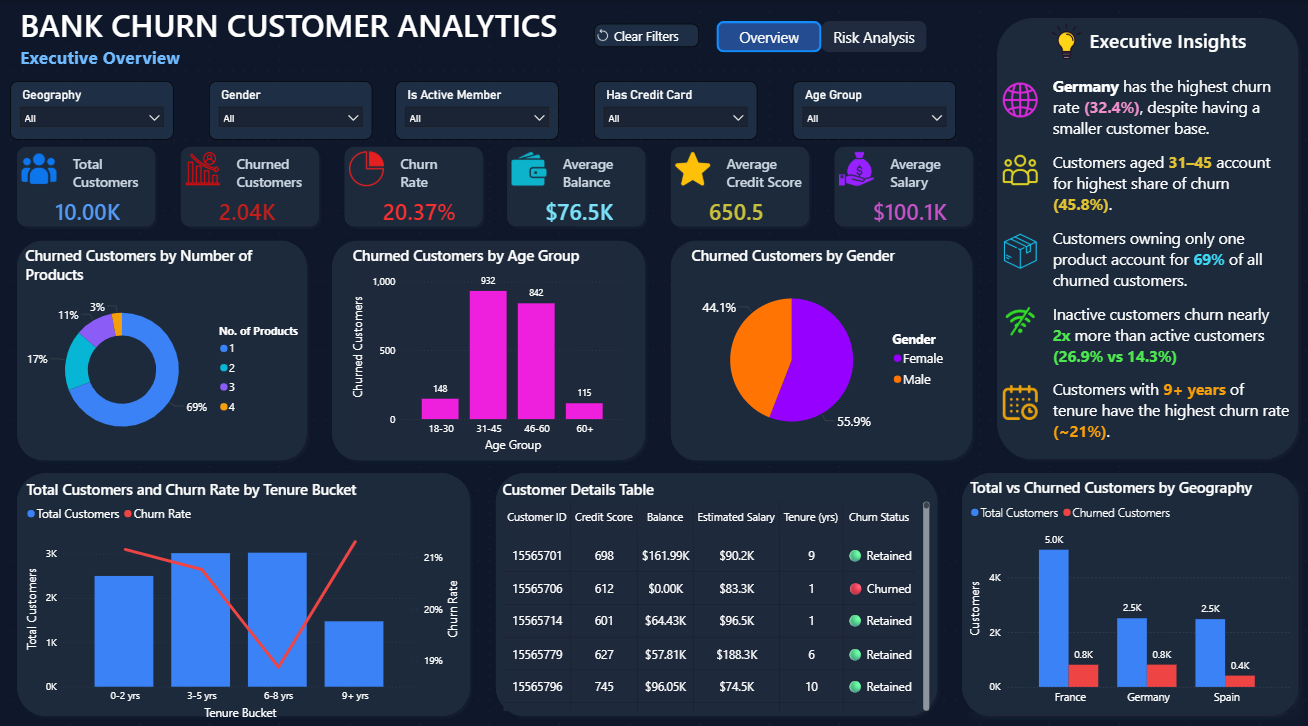

The dashboard page shown, as its layout file describes it:
{"tool":"powerbi","page":{"name":"Executive Overview","canvas":[1800,1000],"ordinal":0},"visuals":[{"type":"textbox","box":[16,0,784,112],"z":0},{"type":"group","id":"g1","title":"Group 7","box":[1360,16,432,624],"z":0,"group":"g14"},{"type":"actionButton","box":[1040,16,144,48],"z":1000},{"type":"textbox","box":[1408,32,352,48],"z":1000,"group":"g14"},{"type":"actionButton","box":[1184,16,144,48],"z":2000},{"type":"textbox","box":[1390.3,80,46.3,544],"z":2000,"group":"g14"},{"type":"image","box":[1424,32,48,48],"z":3000,"group":"g14"},{"type":"slicer","fields":{"Values":["Bank_Churn.Age Group"]},"box":[1088,96,224,80],"z":3000},{"type":"slicer","fields":{"Values":["Bank_Churn.Gender"]},"box":[284,96,224,80],"z":4000},{"type":"image","box":[1390.3,112,46.3,48],"z":4000,"group":"g14"},{"type":"slicer","fields":{"Values":["Bank_Churn.HasCrCard"]},"box":[820,96,224,80],"z":5000},{"type":"image","box":[1390.3,208,46.3,48],"z":5000,"group":"g14"},{"type":"slicer","fields":{"Values":["Bank_Churn.IsActiveMember"]},"box":[552,96,224,80],"z":6000},{"type":"image","box":[1390.3,320,46.3,48],"z":6000,"group":"g14"},{"type":"shape","box":[1360,16,432,624],"z":7000,"group":"g1"},{"type":"shape","box":[16,320,448,320],"z":7000,"group":"g11"},{"type":"shape","box":[928,320,416,320],"z":7000,"group":"g7"},{"type":"shape","box":[16,640,608,352],"z":7000},{"type":"shape","box":[640,640,640,352],"z":7000,"group":"g15"},{"type":"shape","box":[1296,640,496,352],"z":7000,"group":"g9"},{"type":"group","id":"g2","title":"Group 2","box":[240,192,224,160],"z":8000},{"type":"shape","box":[240,192,208,128],"z":8000,"group":"g2"},{"type":"shape","box":[464,192,208,128],"z":8000,"group":"g3"},{"type":"shape","box":[464,320,464,320],"z":8000,"group":"g8"},{"type":"clusteredColumnChart","title":"Total vs Churned Customers by Geography","fields":{"Category":["Bank_Churn.Geography"],"Y":["Bank_Churn.Total Customers","Bank_Churn.Churned Customers"]},"box":[1328,656.8,432,301.7],"z":8000,"group":"g9"},{"type":"shape","box":[16,192,208,128],"z":9000,"group":"g13"},{"type":"group","id":"g3","title":"Group 3","box":[464,192,208,160],"z":9000},{"type":"shape","box":[688,192,208,128],"z":9000,"group":"g4"},{"type":"image","box":[256,208,48,48],"z":9000,"group":"g2"},{"type":"group","id":"g4","title":"Group 4","box":[688,192,208,160],"z":10000},{"type":"shape","box":[912,192,208,128],"z":10000,"group":"g5"},{"type":"group","id":"g5","title":"Group 5","box":[912,192,208,160],"z":11000},{"type":"shape","box":[1136,192,208,128],"z":11000,"group":"g6"},{"type":"cardVisual","fields":{"Data":["Bank_Churn.Total Customers"]},"box":[48,224,176,128],"z":11000,"group":"g13"},{"type":"group","id":"g6","title":"Group 6","box":[1136,192,208,160],"z":12000},{"type":"image","box":[480,208,48,48],"z":12000,"group":"g3"},{"type":"slicer","fields":{"Values":["Bank_Churn.Geography"]},"box":[16,96,224,80],"z":13000},{"type":"textbox","box":[96,208,128,64],"z":13000,"group":"g13"},{"type":"image","box":[928,208,48,48],"z":13000,"group":"g5"},{"type":"image","box":[1152,208,48,48],"z":14000,"group":"g6"},{"type":"group","id":"g7","title":"Group 7","box":[928,320,416,320],"z":14000},{"type":"image","box":[704,208,48,48],"z":15000,"group":"g4"},{"type":"group","id":"g8","title":"Group 8","box":[464,320,464,320],"z":15000},{"type":"textbox","box":[1216,208,128,64],"z":16000,"group":"g6"},{"type":"group","id":"g9","title":"Group 9","box":[1296,640,496,352],"z":16000},{"type":"textbox","box":[768,208,128,64],"z":17000,"group":"g4"},{"type":"lineClusteredColumnComboChart","fields":{"Y2":["Bank_Churn.Churn Rate"],"Y":["Bank_Churn.Total Customers"],"Category":["Bank_Churn.Tenure Bucket"]},"box":[32,656,576,336],"z":17000},{"type":"textbox","box":[544,208,128,64],"z":18000,"group":"g3"},{"type":"group","id":"g10","title":"Group 10","box":[16,320,448,320],"z":18000},{"type":"group","id":"g11","title":"Group 7","box":[16,320,448,320],"z":18000,"group":"g10"},{"type":"columnChart","fields":{"Category":["Bank_Churn.Age Group"],"Y":["Bank_Churn.Churned Customers"]},"box":[480,336,432,288],"z":18000,"group":"g8"},{"type":"pieChart","fields":{"Category":["Bank_Churn.Gender"],"Y":["Bank_Churn.Churned Customers"]},"box":[944,336,384,288],"z":18001,"group":"g7"},{"type":"textbox","box":[992,208,128,64],"z":19000,"group":"g5"},{"type":"donutChart","title":"Churned Customers by Number of Products","fields":{"Y":["Bank_Churn.Churned Customers"],"Category":["Bank_Churn.NumOfProducts"]},"box":[33.2,335.2,413.5,289.5],"z":19000,"group":"g10"},{"type":"group","id":"g12","title":"Group 1","box":[640,640,640,352],"z":19000},{"type":"group","id":"g13","title":"Group 11","box":[16,192,208,160],"z":20000},{"type":"textbox","box":[320,208,144,64],"z":20000,"group":"g2"},{"type":"cardVisual","fields":{"Data":["Bank_Churn.Churn Rate"]},"box":[496,224,176,128],"z":20000,"group":"g3"},{"type":"group","id":"g14","title":"Group 12","box":[1360,16,432,624],"z":21000},{"type":"cardVisual","fields":{"Data":["Bank_Churn.Average Balance"]},"box":[720,224,176,128],"z":21000,"group":"g4"},{"type":"cardVisual","fields":{"Data":["Avg(Bank_Churn.CreditScore)"]},"box":[944,224,176,128],"z":22000,"group":"g5"},{"type":"image","box":[1392,528,48,48],"z":22000},{"type":"cardVisual","fields":{"Data":["Avg(Bank_Churn.EstimatedSalary)"]},"box":[1168,224,176,128],"z":23000,"group":"g6"},{"type":"image","box":[1392,416,48,48],"z":23000},{"type":"image","box":[32,208,48,48],"z":24000,"group":"g13"},{"type":"image","box":[896,16,32,48],"z":25000},{"type":"group","id":"g15","title":"Group 7","box":[640,640,640,352],"z":25000,"group":"g12"},{"type":"actionButton","box":[896,16,128,48],"z":26000},{"type":"tableEx","title":"Customer Details Table","fields":{"Values":["CountNonNull(Bank_Churn.CustomerId)","Sum(Bank_Churn.CreditScore)","Sum(Bank_Churn.Balance)","Sum(Bank_Churn.EstimatedSalary)","Sum(Bank_Churn.Tenure)","Bank_Churn.Exit Status"]},"box":[656,656,608,320],"z":26000,"group":"g12"},{"type":"cardVisual","fields":{"Data":["Bank_Churn.Churned Customers"]},"box":[272,224,160,128],"z":27000,"group":"g2"},{"type":"textbox","box":[1452.1,80,324.4,544],"z":27014,"group":"g1"}]}

Visuals, with their boxes in screenshot pixels (x1, y1, x2, y2), scaled from the page's 1800x1000 canvas onto the 1308x726 screenshot:
textbox: detection(12, 0, 581, 81)
"Group 7" group: detection(988, 12, 1302, 465)
actionButton: detection(756, 12, 860, 46)
textbox: detection(1023, 23, 1279, 58)
actionButton: detection(860, 12, 965, 46)
textbox: detection(1010, 58, 1044, 453)
image: detection(1035, 23, 1070, 58)
slicer - Bank_Churn.Age Group: detection(791, 70, 953, 128)
slicer - Bank_Churn.Gender: detection(206, 70, 369, 128)
image: detection(1010, 81, 1044, 116)
slicer - Bank_Churn.HasCrCard: detection(596, 70, 759, 128)
image: detection(1010, 151, 1044, 186)
slicer - Bank_Churn.IsActiveMember: detection(401, 70, 564, 128)
image: detection(1010, 232, 1044, 267)
shape: detection(988, 12, 1302, 465)
shape: detection(12, 232, 337, 465)
shape: detection(674, 232, 977, 465)
shape: detection(12, 465, 453, 720)
shape: detection(465, 465, 930, 720)
shape: detection(942, 465, 1302, 720)
"Group 2" group: detection(174, 139, 337, 256)
shape: detection(174, 139, 326, 232)
shape: detection(337, 139, 488, 232)
shape: detection(337, 232, 674, 465)
"Total vs Churned Customers by Geography" clusteredColumnChart: detection(965, 477, 1279, 696)
shape: detection(12, 139, 163, 232)
"Group 3" group: detection(337, 139, 488, 256)
shape: detection(500, 139, 651, 232)
image: detection(186, 151, 221, 186)
"Group 4" group: detection(500, 139, 651, 256)
shape: detection(663, 139, 814, 232)
"Group 5" group: detection(663, 139, 814, 256)
shape: detection(825, 139, 977, 232)
cardVisual - Bank_Churn.Total Customers: detection(35, 163, 163, 256)
"Group 6" group: detection(825, 139, 977, 256)
image: detection(349, 151, 384, 186)
slicer - Bank_Churn.Geography: detection(12, 70, 174, 128)
textbox: detection(70, 151, 163, 197)
image: detection(674, 151, 709, 186)
image: detection(837, 151, 872, 186)
"Group 7" group: detection(674, 232, 977, 465)
image: detection(512, 151, 546, 186)
"Group 8" group: detection(337, 232, 674, 465)
textbox: detection(884, 151, 977, 197)
"Group 9" group: detection(942, 465, 1302, 720)
textbox: detection(558, 151, 651, 197)
lineClusteredColumnComboChart - Bank_Churn.Churn Rate x Bank_Churn.Total Customers: detection(23, 476, 442, 720)
textbox: detection(395, 151, 488, 197)
"Group 10" group: detection(12, 232, 337, 465)
"Group 7" group: detection(12, 232, 337, 465)
columnChart - Bank_Churn.Age Group x Bank_Churn.Churned Customers: detection(349, 244, 663, 453)
pieChart - Bank_Churn.Gender x Bank_Churn.Churned Customers: detection(686, 244, 965, 453)
textbox: detection(721, 151, 814, 197)
"Churned Customers by Number of Products" donutChart: detection(24, 243, 325, 454)
"Group 1" group: detection(465, 465, 930, 720)
"Group 11" group: detection(12, 139, 163, 256)
textbox: detection(233, 151, 337, 197)
cardVisual - Bank_Churn.Churn Rate: detection(360, 163, 488, 256)
"Group 12" group: detection(988, 12, 1302, 465)
cardVisual - Bank_Churn.Average Balance: detection(523, 163, 651, 256)
cardVisual - Avg(Bank_Churn.CreditScore): detection(686, 163, 814, 256)
image: detection(1012, 383, 1046, 418)
cardVisual - Avg(Bank_Churn.EstimatedSalary): detection(849, 163, 977, 256)
image: detection(1012, 302, 1046, 337)
image: detection(23, 151, 58, 186)
image: detection(651, 12, 674, 46)
"Group 7" group: detection(465, 465, 930, 720)
actionButton: detection(651, 12, 744, 46)
"Customer Details Table" tableEx: detection(477, 476, 919, 709)
cardVisual - Bank_Churn.Churned Customers: detection(198, 163, 314, 256)
textbox: detection(1055, 58, 1291, 453)
